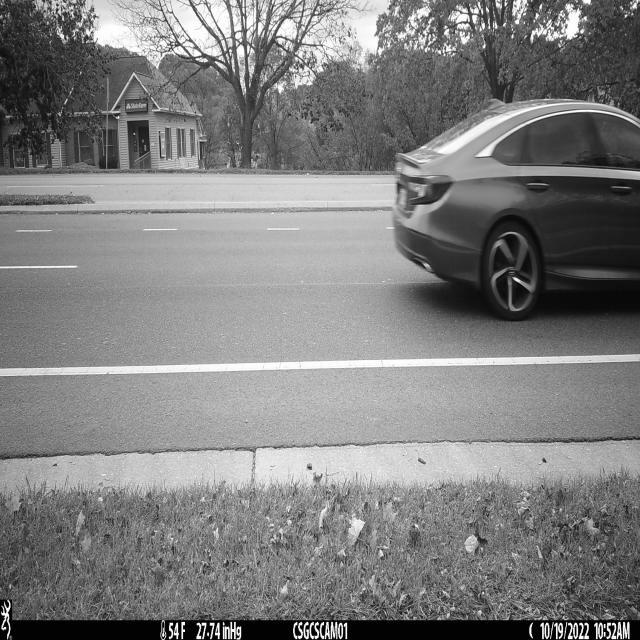Sedan: (391, 100, 640, 324)
